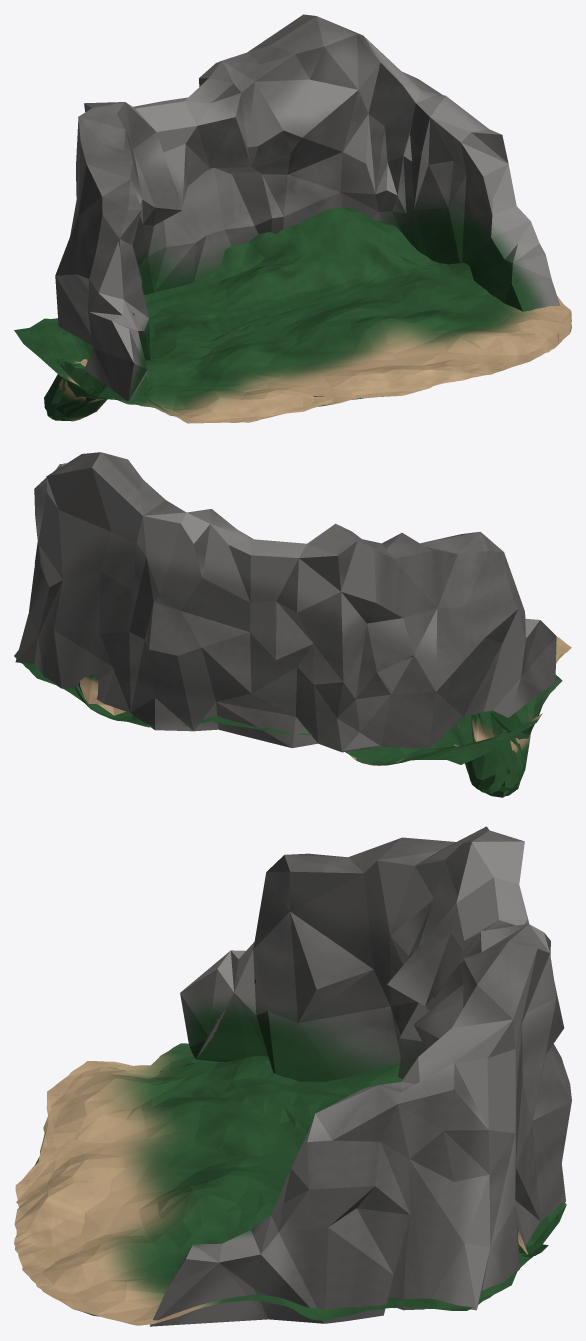
Rendered from CWMAP2.fbx.
3 renders of one model, top to bottom at view 1: azimuth 30°, elevation 25°; view 2: azimuth 150°, elevation 25°; view 3: azimuth 270°, elevation 25°, orthographic. The views are drawn at different scales.
Parts seen in each view (by area): view 1: Cube, Floor; view 2: Cube, Floor; view 3: Cube, Floor.
Part boxes in pixels (<box>): Cube: <box>55,14,560,401</box>; Floor: <box>14,206,571,423</box>; Cube: <box>15,452,556,752</box>; Floor: <box>14,637,571,797</box>; Cube: <box>149,826,571,1326</box>; Floor: <box>14,1043,566,1325</box>.
Bounding box in the file's own units: 34055 × 20431 × 26615.
Materials: 2 (2 with a texture image).
